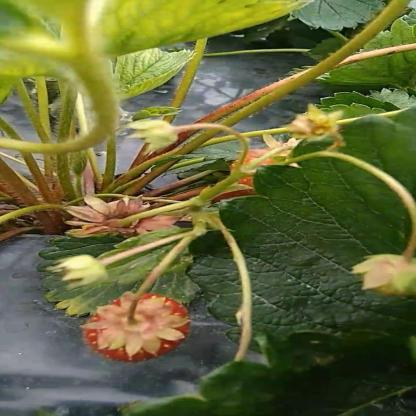ripe: (80, 288, 204, 366)
